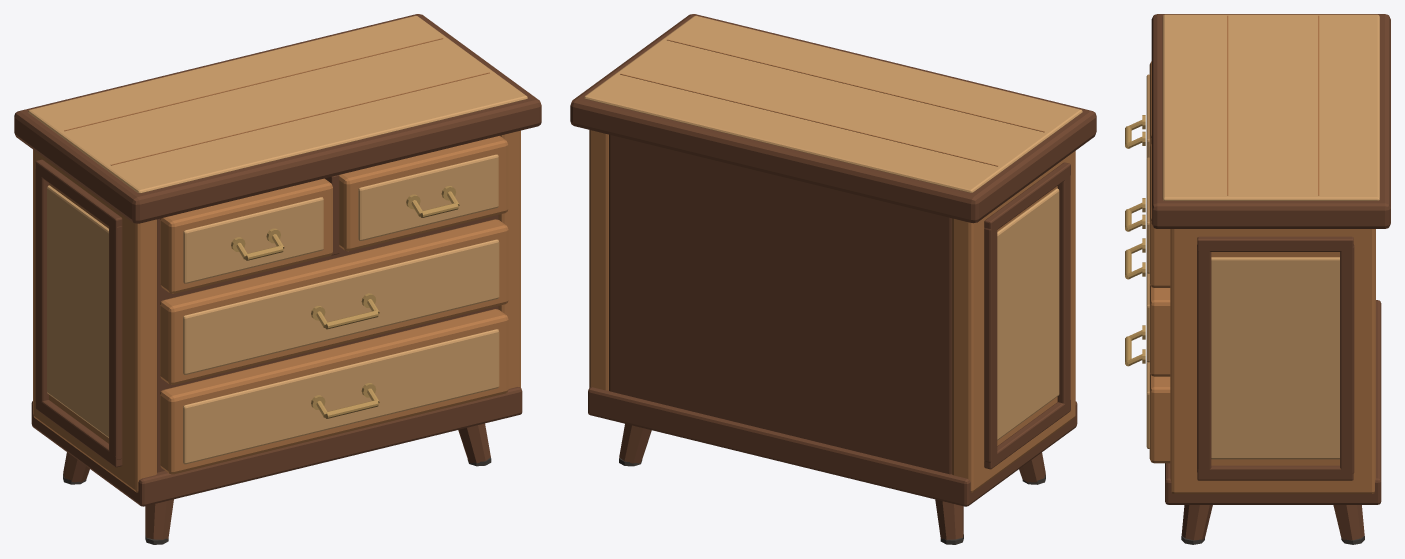
The model's file is 005_four_drawer_dresser_v02.glb.
3 renders of one model, left to right at view 1: azimuth 30°, elevation 25°; view 2: azimuth 150°, elevation 25°; view 3: azimuth 270°, elevation 25°, orthographic. The views are drawn at different scales.
Visible parts, largest first — view 1: 005 warm inset top board, 005 drawer 2 recessed center panel, 005 drawer 3 recessed center panel, 005 overhanging bevel top, 005 side inset panel, 005 drawer 2 beveled face, 005 drawer 3 beveled face, 005 cabinet side, 005 lower plinth, 005 drawer 0 recessed center panel, 005 drawer 1 recessed center panel, 005 drawer 0 beveled face (+11 smaller); view 2: 005 inset cabinet back, 005 warm inset top board, 005 overhanging bevel top, 005 side inset panel, 005 lower plinth, 005 cabinet side, 005 cabinet side.001, 005 side frame stile, 005 side frame stile.001, 005 side frame crossrail.001, 005 side frame crossrail, 005 tapered angled cabinet foot (+3 smaller); view 3: 005 warm inset top board, 005 side inset panel.001, 005 cabinet side.001, 005 overhanging bevel top, 005 lower plinth, 005 side frame stile.002, 005 side frame stile.003, 005 side frame crossrail.003, 005 side frame crossrail.002, 005 drawer 2 beveled face, 005 drawer 3 beveled face, 005 drawer 1 beveled face (+8 smaller).
Part boxes in pixels (x1,y1,x2,y2): 005 warm inset top board: [28, 15, 527, 193]; 005 drawer 2 recessed center panel: [183, 239, 499, 374]; 005 drawer 3 recessed center panel: [183, 329, 499, 464]; 005 overhanging bevel top: [14, 14, 541, 223]; 005 side inset panel: [47, 185, 108, 437]; 005 drawer 2 beveled face: [160, 219, 508, 384]; 005 drawer 3 beveled face: [160, 309, 508, 474]; 005 cabinet side: [33, 149, 156, 492]; 005 lower plinth: [31, 387, 522, 506]; 005 drawer 0 recessed center panel: [183, 197, 323, 283]; 005 drawer 1 recessed center panel: [358, 154, 498, 240]; 005 drawer 0 beveled face: [160, 178, 332, 293]; 005 inset cabinet back: [609, 134, 951, 474]; 005 warm inset top board: [584, 15, 1082, 192]; 005 overhanging bevel top: [570, 14, 1096, 223]; 005 side inset panel: [997, 188, 1059, 440]; 005 lower plinth: [588, 387, 1077, 506]; 005 cabinet side: [952, 151, 1075, 492]; 005 cabinet side.001: [589, 130, 608, 390]; 005 side frame stile: [984, 227, 997, 462]; 005 side frame stile.001: [1057, 172, 1070, 407]; 005 side frame crossrail.001: [984, 162, 1070, 232]; 005 side frame crossrail: [984, 400, 1070, 469]; 005 tapered angled cabinet foot: [935, 499, 963, 539]; 005 warm inset top board: [1162, 14, 1379, 200]; 005 side inset panel.001: [1211, 257, 1339, 459]; 005 cabinet side.001: [1170, 229, 1375, 493]; 005 overhanging bevel top: [1151, 14, 1390, 228]; 005 lower plinth: [1165, 300, 1381, 504]; 005 side frame stile.002: [1340, 244, 1354, 473]; 005 side frame stile.003: [1197, 245, 1211, 472]; 005 side frame crossrail.003: [1197, 236, 1353, 251]; 005 side frame crossrail.002: [1197, 465, 1353, 480]; 005 drawer 2 beveled face: [1149, 284, 1170, 376]; 005 drawer 3 beveled face: [1149, 372, 1170, 463]; 005 drawer 1 beveled face: [1149, 144, 1170, 287].
Size of the model in its own units: 1.21 by 1.04 by 0.7011.
